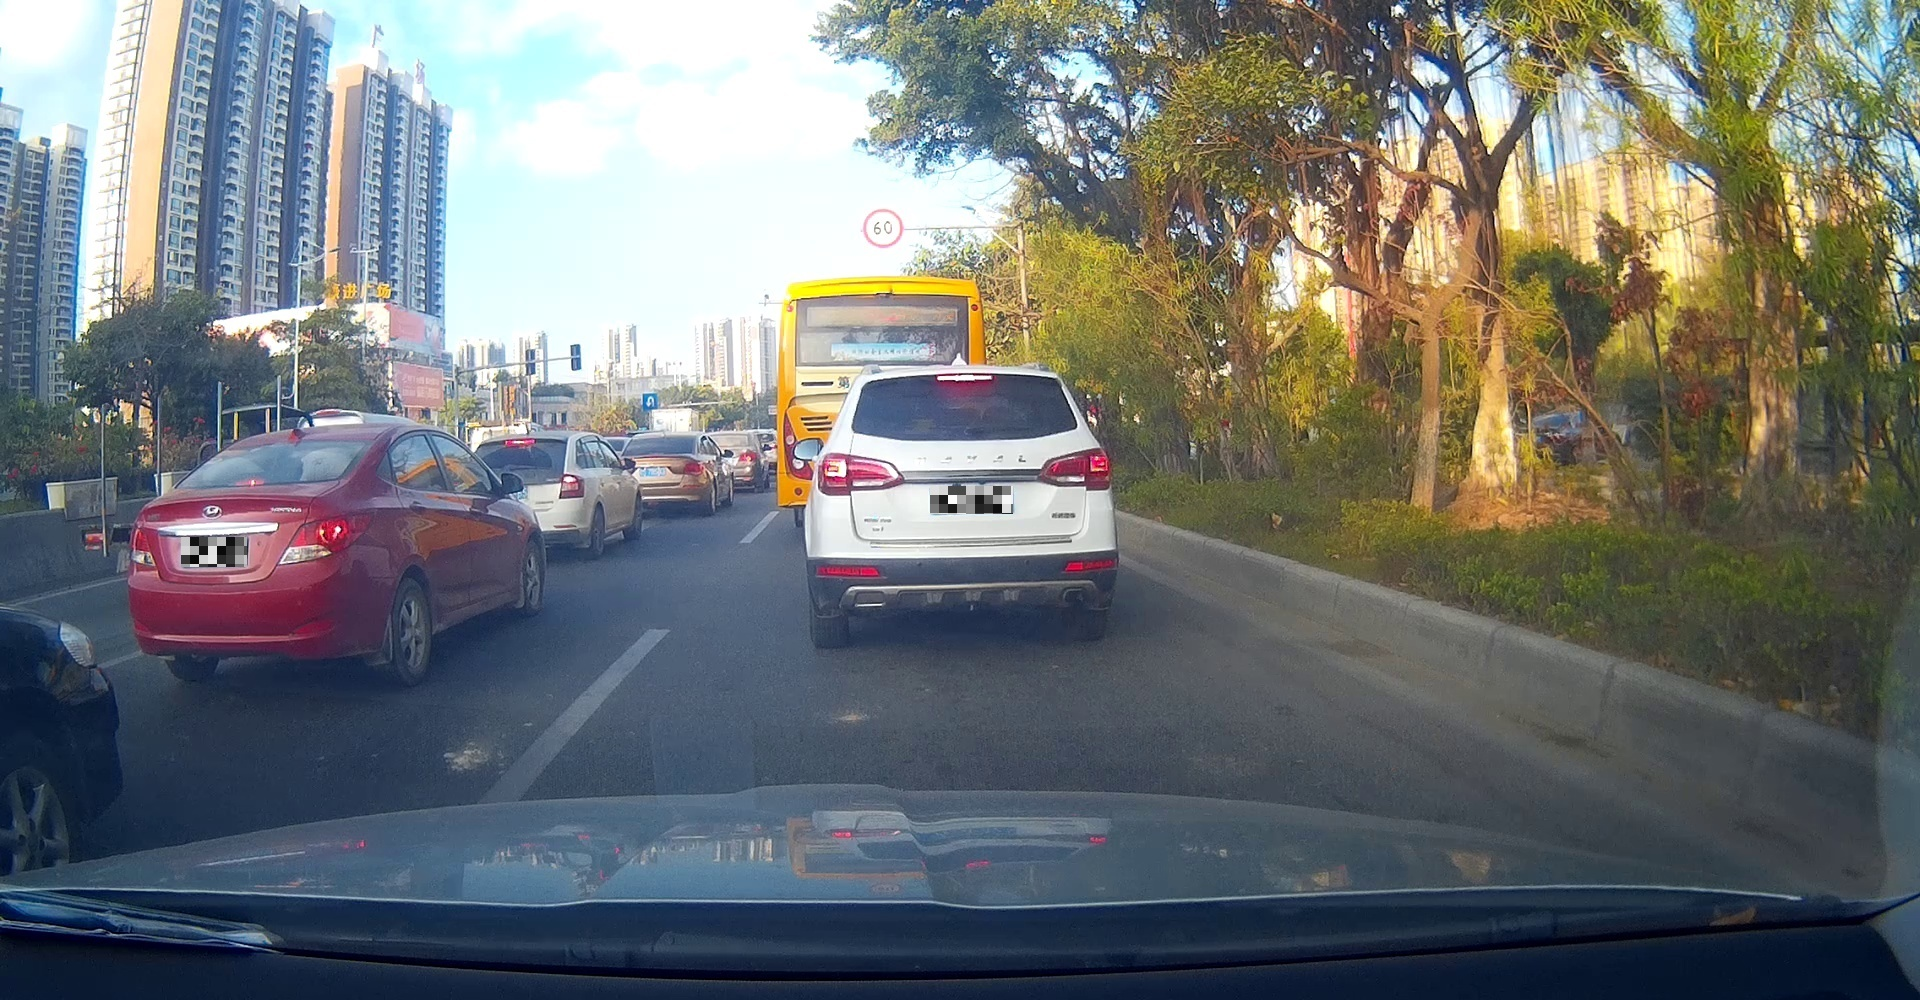L_light: (817, 452, 905, 496), (128, 522, 157, 566)
R_light: (277, 509, 375, 566), (1037, 447, 1111, 492)
T_light: (936, 374, 992, 381), (236, 478, 265, 486)
day-brake: (805, 365, 1117, 647), (127, 423, 375, 685)
plate_1: (182, 537, 248, 567)
plate_2: (930, 486, 1013, 514)
